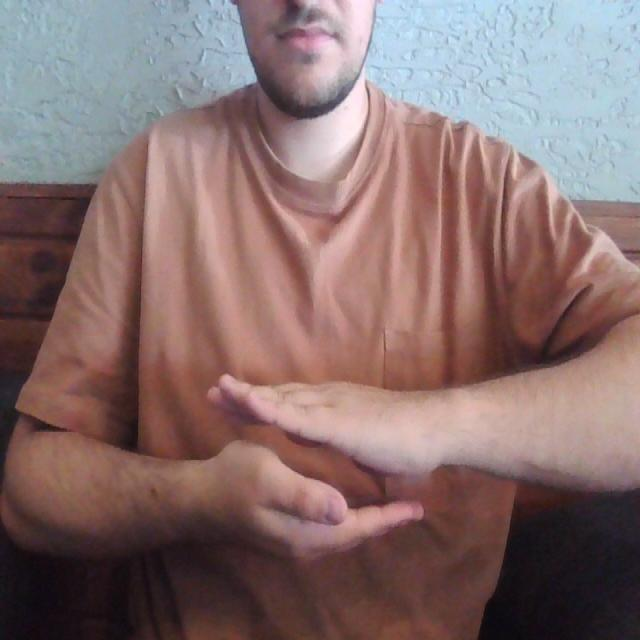Arkadas: (105, 356, 573, 561)
